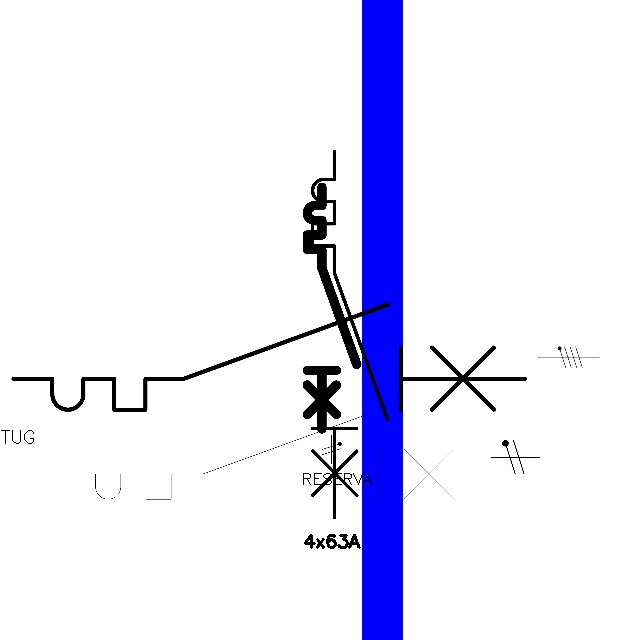interruptor_termomagnetico: (0, 291, 537, 423), (53, 403, 490, 510), (303, 142, 397, 527), (301, 181, 363, 435)
